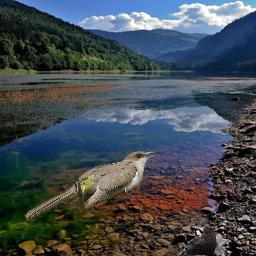Crow: (178, 225, 217, 255)
Cuckoo: (24, 150, 155, 220)
